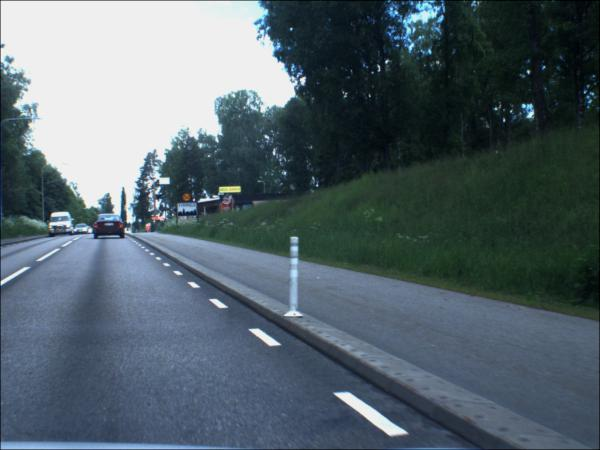50_SIGN: (184, 194, 192, 204)
